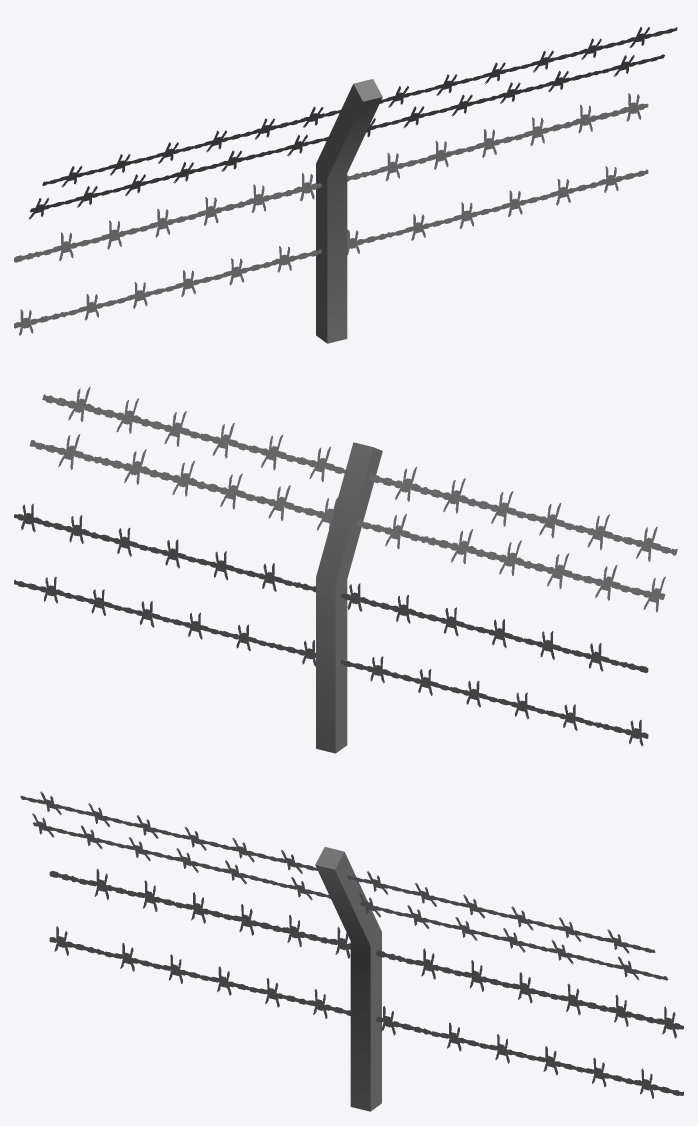
The model's file is Fence_BarbedTrim.FBX.
The picture shows the model from 3 angles, top to bottom: view 1: azimuth 30°, elevation 25°; view 2: azimuth 150°, elevation 25°; view 3: azimuth 330°, elevation 25°; orthographic projection.
Parts seen in each view (by area): view 1: Fence_BarbedTrim; view 2: Fence_BarbedTrim; view 3: Fence_BarbedTrim.
Boxes of the visible parts, <box> form: Fence_BarbedTrim: <box>14,27,677,343</box>; Fence_BarbedTrim: <box>14,386,677,753</box>; Fence_BarbedTrim: <box>20,791,683,1111</box>.
Bounding box in the file's own units: 2.56 × 1.08 × 0.3296.
